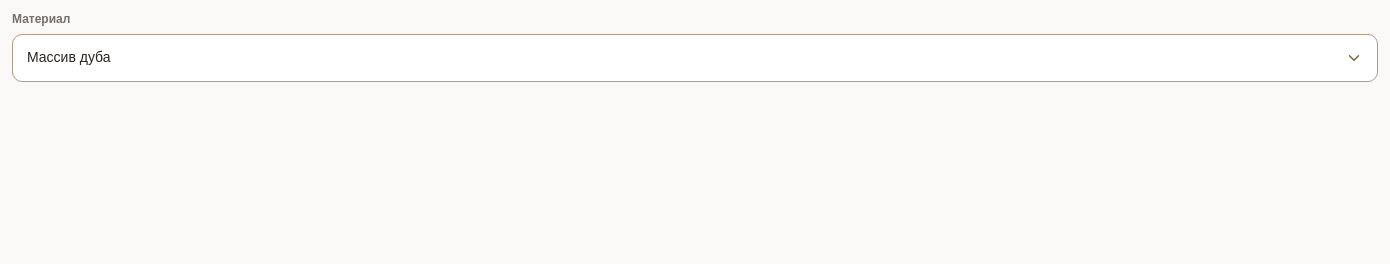
it: SelectField › closes on a pointer click outside without changing the value
Press Enter in the dropdown labelled "Массив дуба", box [12,34,1378,82]
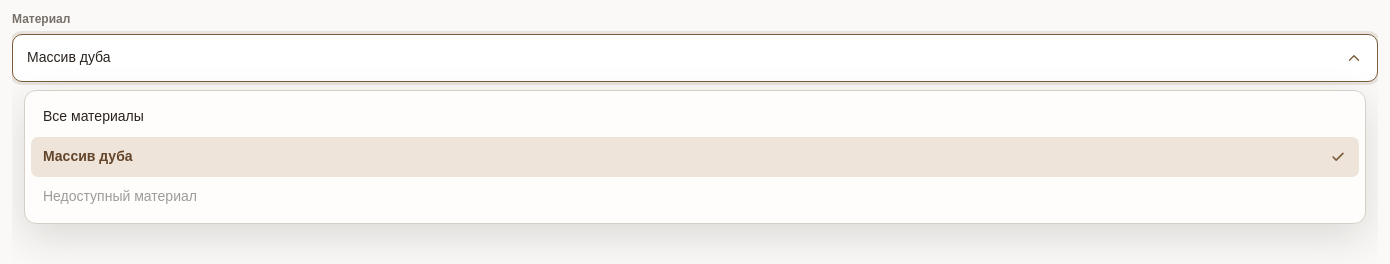
Check: the list is shown, box [24,90,1366,224]
Press the mouse on the element that starts with "Материал" at (695, 47), box [12,12,1378,82]
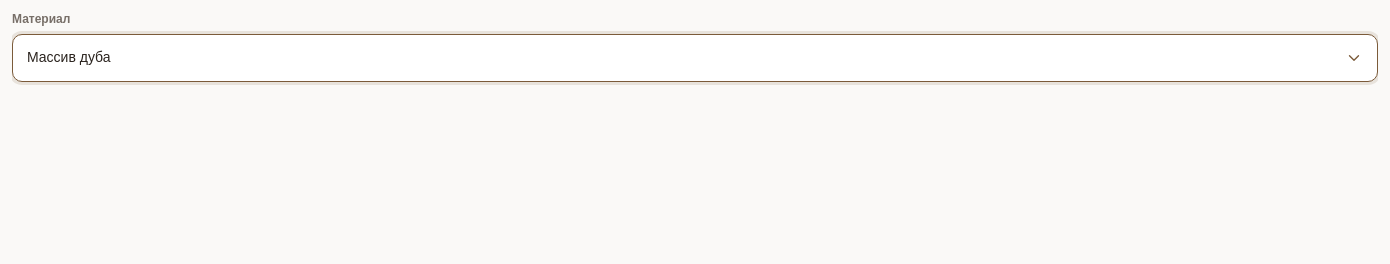
Check: the list is gone
